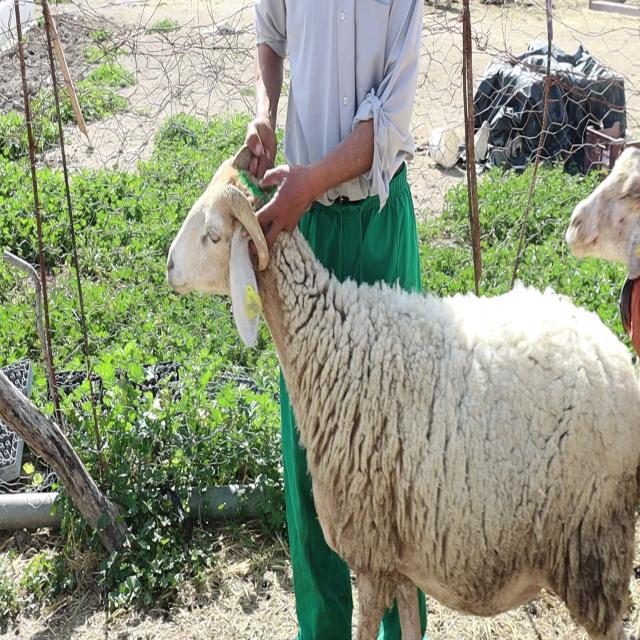Score_4: (167, 145, 640, 639)
